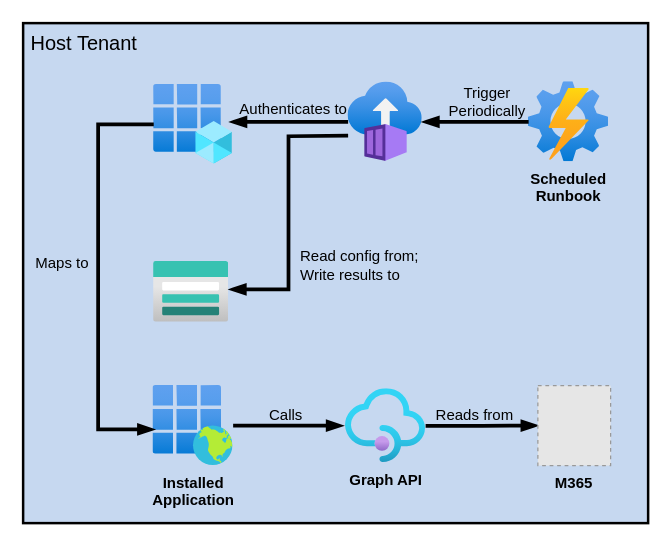
The diagram is 670 pixels wide and 545 high, and some of its shapes have lost their labels. Grey dashed boxes stand in for pictures. Each missing label, with the box of its shape:
ScubaConnect App Registration: (153, 84, 232, 164)
ScubaGear in Windows Container: (348, 81, 422, 161)
Storage Account: (153, 260, 228, 322)
